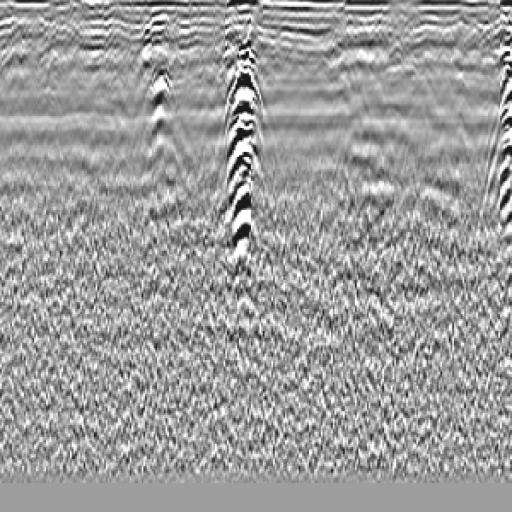metalic: (208, 27, 281, 310), (471, 35, 512, 307)
